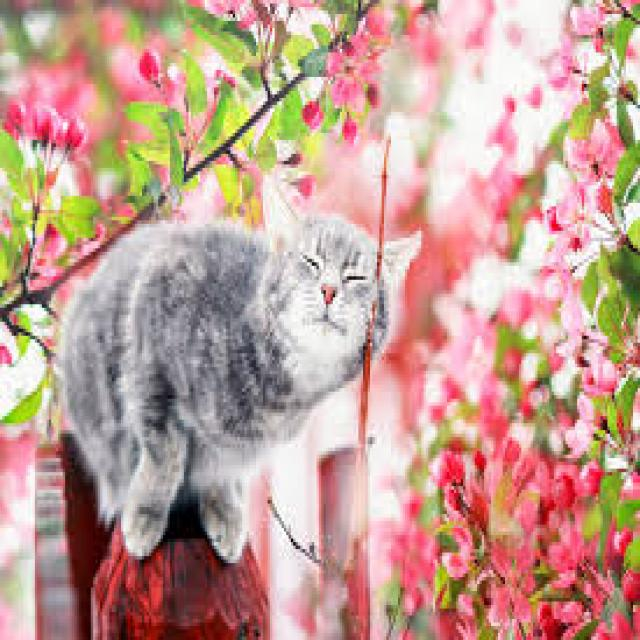Cat: (57, 173, 424, 568)
